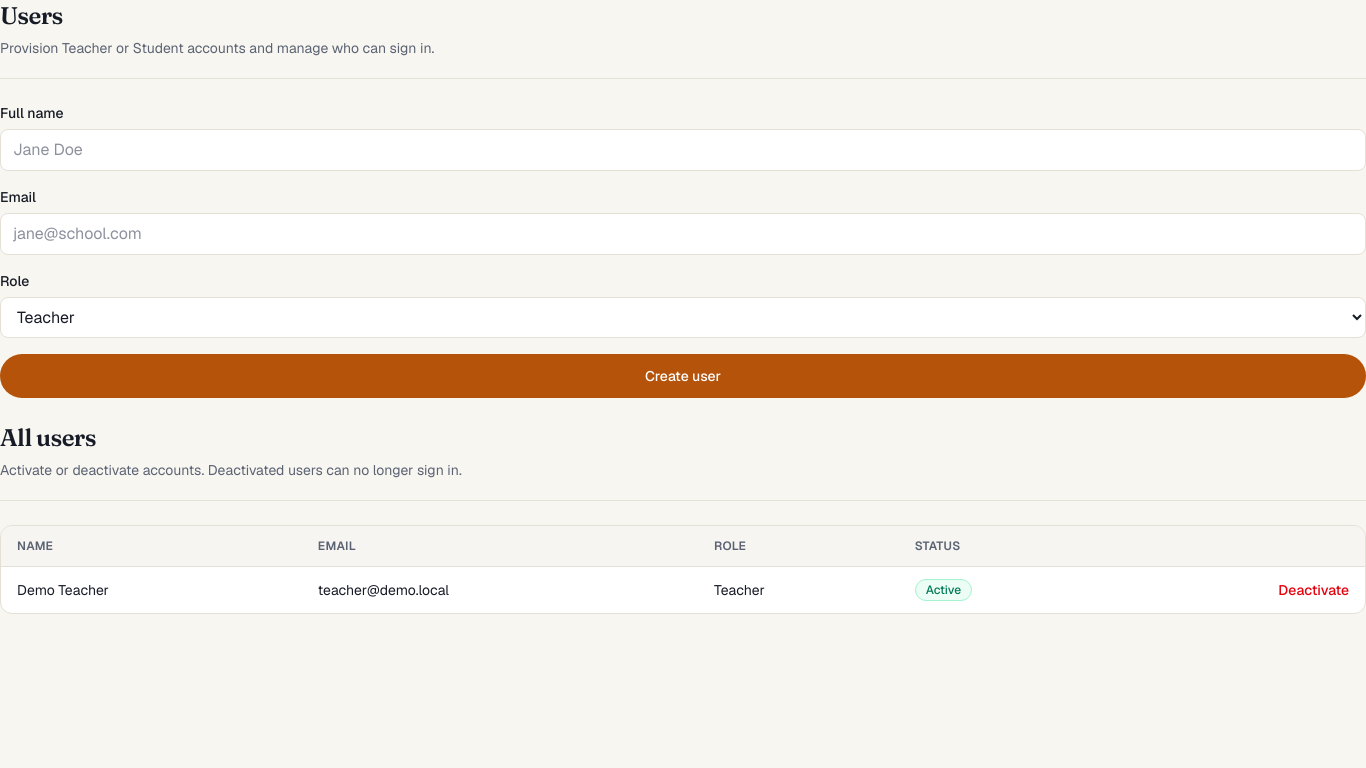
Test case: AdminUsersPage › deactivates a user after confirmation and refetches
This screenshot has width=1366, height=768.
Expected: the text "teacher@demo.local" is shown, left=302, top=566, right=698, bottom=613
Click the button "Deactivate" at (1314, 590), box left=1278, top=580, right=1349, bottom=600
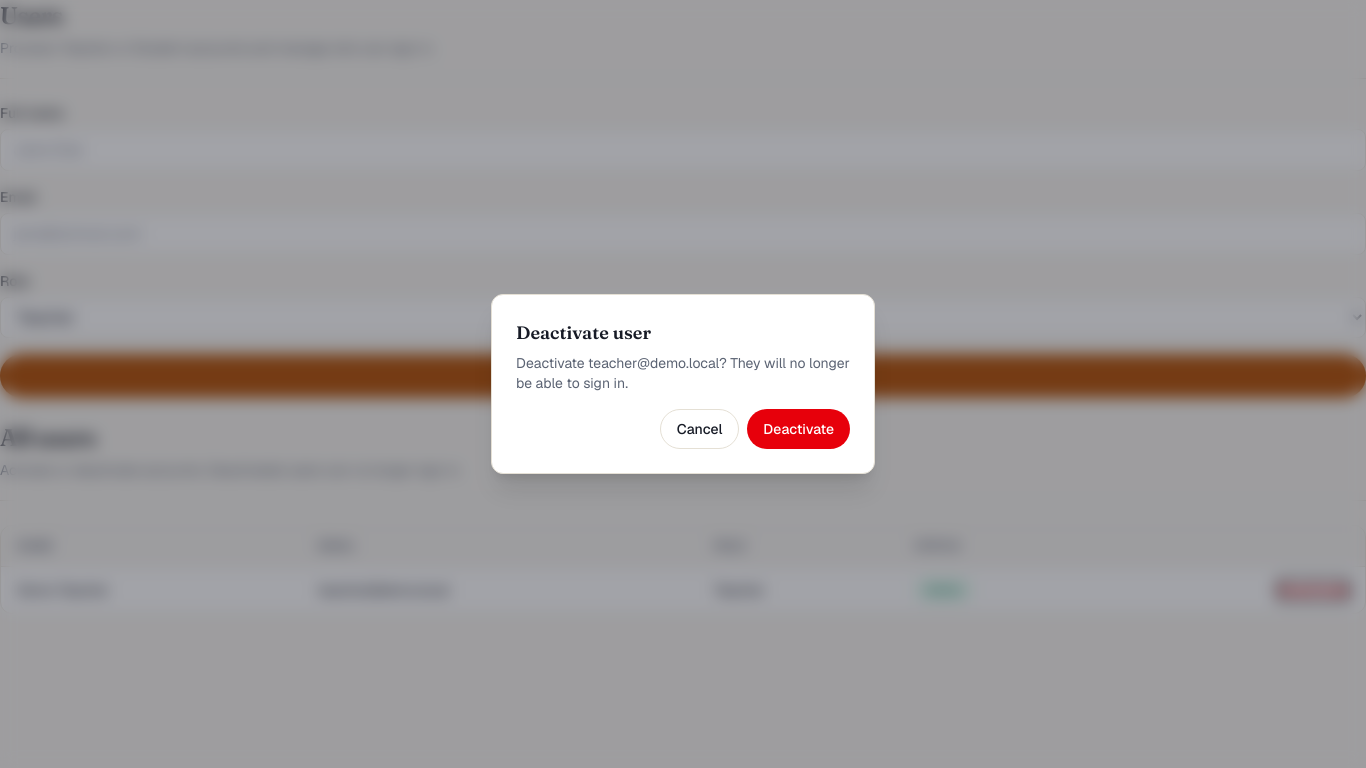
# Confirm in the dialog.
Click the button "Deactivate" at (799, 429), box left=747, top=409, right=850, bottom=449
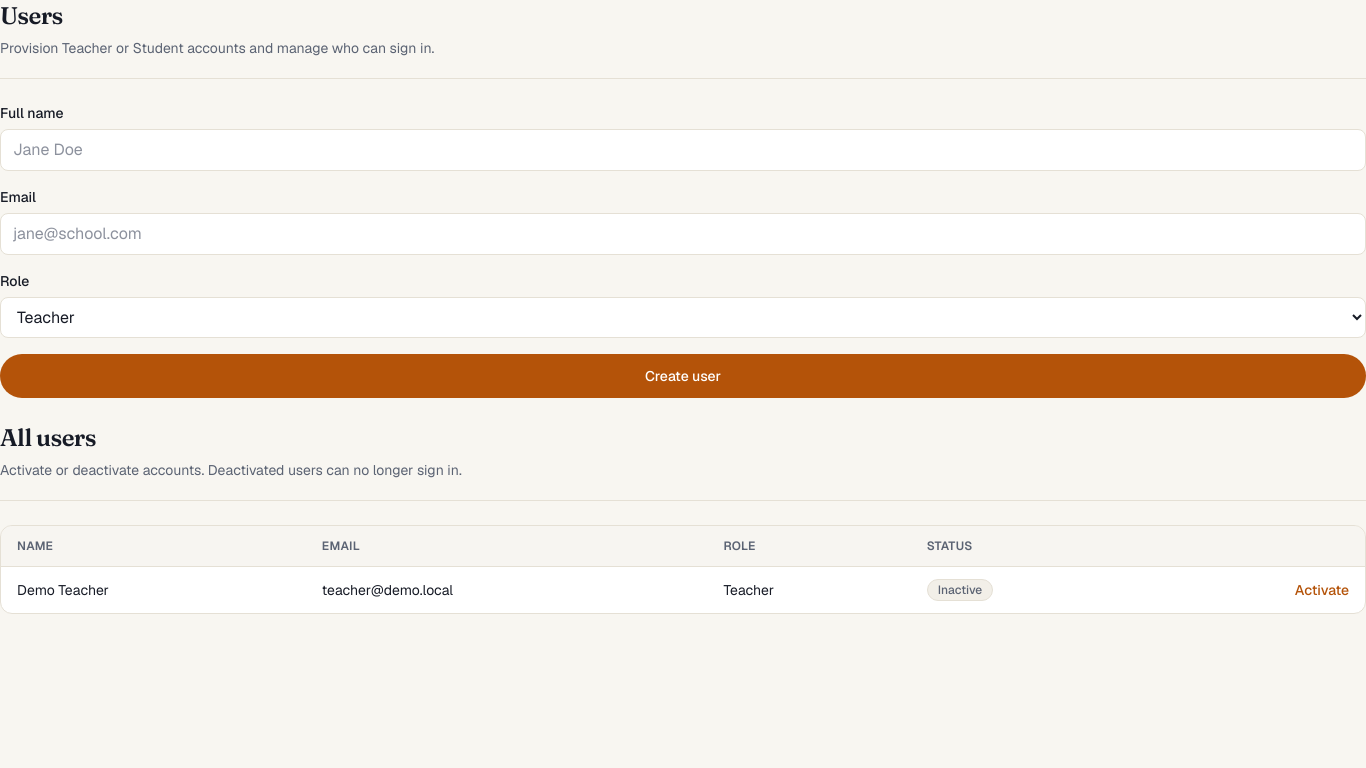
Result: the text "Inactive" is shown at left=927, top=579, right=993, bottom=601
